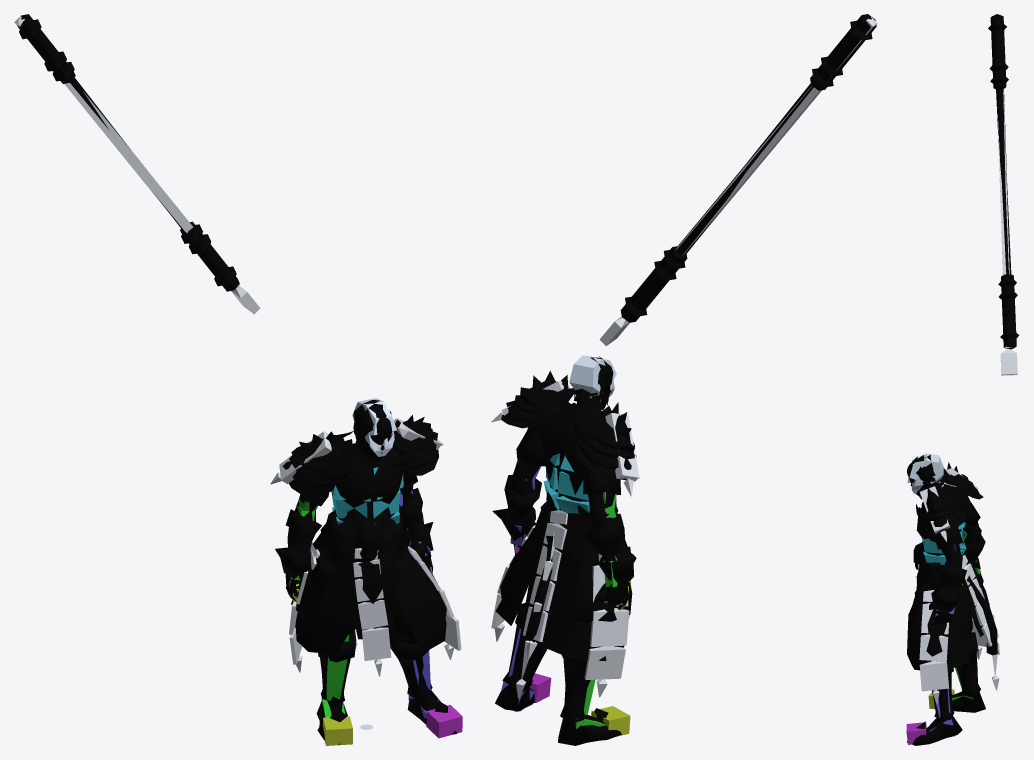
File: monkey04.glb
3 views of the same model, side by side, from view 1: azimuth 30°, elevation 25°; view 2: azimuth 150°, elevation 25°; view 3: azimuth 270°, elevation 25° (orthographic). The views are drawn at different scales.
Visible parts, largest first — view 1: DrawCall_0144, DrawCall_0136, DrawCall_0137, Bone039, DrawCall_0138, Bip001 L Toe0, DrawCall_0143, Bone009, Bip001 Head, Bip001 R Toe0, Bip001 Spine1, Bone008; view 2: DrawCall_0144, DrawCall_0136, DrawCall_0137, DrawCall_0138, Bone039, Bone030, Bone031, Bip001 Head, DrawCall_0143, Bone003, Bip001 Spine1; view 3: DrawCall_0144, DrawCall_0136, DrawCall_0138, Bone019, Bone039, Bip001 Head, DrawCall_0137, DrawCall_0143, Bone018, Bone040, Bip001 L Toe0, Bone017 (+3 smaller).
Part boxes in pixels (bbox=[...]): DrawCall_0144: bbox=[275, 419, 456, 744]; DrawCall_0136: bbox=[17, 14, 239, 291]; DrawCall_0137: bbox=[282, 431, 355, 496]; Bone039: bbox=[14, 16, 239, 290]; DrawCall_0138: bbox=[390, 415, 438, 475]; Bip001 L Toe0: bbox=[426, 704, 462, 738]; DrawCall_0143: bbox=[353, 400, 391, 453]; Bone009: bbox=[362, 627, 391, 660]; Bip001 Head: bbox=[352, 398, 396, 456]; Bip001 R Toe0: bbox=[322, 716, 352, 745]; Bip001 Spine1: bbox=[331, 489, 400, 518]; Bone008: bbox=[358, 600, 388, 629]; DrawCall_0144: bbox=[492, 357, 636, 745]; DrawCall_0136: bbox=[620, 14, 876, 322]; DrawCall_0137: bbox=[573, 402, 636, 481]; DrawCall_0138: bbox=[501, 370, 575, 428]; Bone039: bbox=[676, 17, 877, 255]; Bone030: bbox=[590, 608, 629, 646]; Bone031: bbox=[584, 646, 625, 679]; Bip001 Head: bbox=[569, 355, 616, 402]; DrawCall_0143: bbox=[574, 356, 612, 405]; Bone003: bbox=[605, 413, 639, 480]; Bip001 Spine1: bbox=[546, 467, 588, 500]; DrawCall_0144: bbox=[907, 465, 997, 745]; DrawCall_0136: bbox=[988, 14, 1019, 349]; DrawCall_0138: bbox=[916, 482, 965, 539]; Bone019: bbox=[919, 661, 949, 691]; Bone039: bbox=[997, 14, 1011, 348]; Bip001 Head: bbox=[907, 453, 943, 493]; DrawCall_0137: bbox=[943, 462, 983, 499]; DrawCall_0143: bbox=[909, 454, 945, 493]; Bone018: bbox=[919, 634, 948, 661]; Bone040: bbox=[1000, 348, 1017, 375]; Bip001 L Toe0: bbox=[906, 722, 926, 744]; Bone017: bbox=[921, 603, 948, 634].
Size of the model in its own units: 2.57 by 4.75 by 0.8268.
